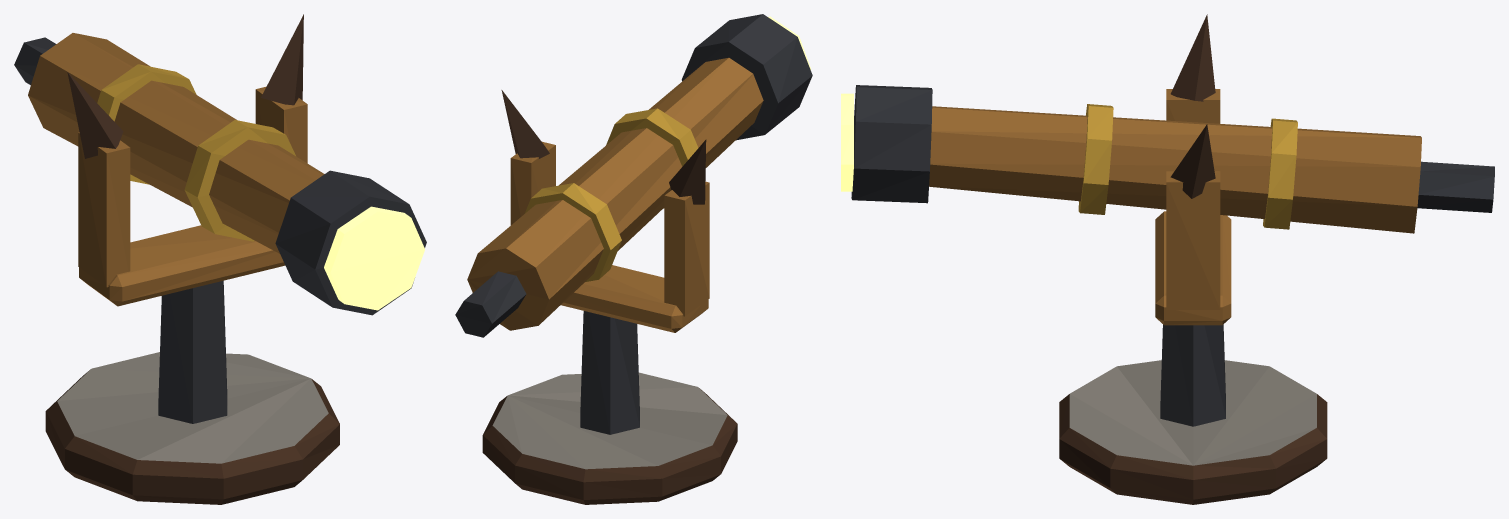
Rendered from owls_eye_head.glb.
3 views of the same model, side by side, from view 1: azimuth 30°, elevation 25°; view 2: azimuth 150°, elevation 25°; view 3: azimuth 270°, elevation 25° (orthographic). The views are drawn at different scales.
Visible parts, largest first — view 1: owls_eye_head; view 2: owls_eye_head; view 3: owls_eye_head.
Boxes of the visible parts, box(x1,y1,x2,y2) form: owls_eye_head: box(14, 14, 426, 504); owls_eye_head: box(455, 14, 812, 504); owls_eye_head: box(841, 14, 1494, 504).
Bounding box in the file's own units: 0.26 × 0.388 × 0.6033.
